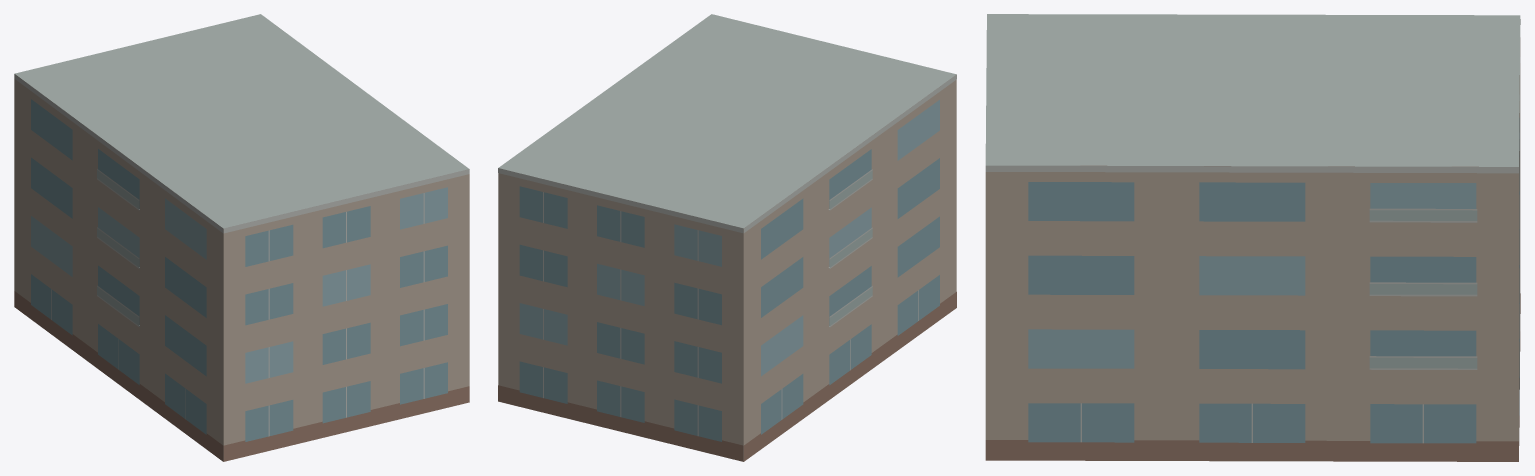
The model's file is survey-upis-32549980.glb.
The picture shows the model from 3 angles, left to right: view 1: azimuth 30°, elevation 25°; view 2: azimuth 150°, elevation 25°; view 3: azimuth 270°, elevation 25°; orthographic projection. The views are drawn at different scales.
Parts seen in each view (by area): view 1: survey-upis-32549980.tmp; view 2: survey-upis-32549980.tmp; view 3: survey-upis-32549980.tmp.
Part boxes in pixels (x1,y1,x2,y2): survey-upis-32549980.tmp: [14, 14, 469, 461]; survey-upis-32549980.tmp: [498, 14, 956, 461]; survey-upis-32549980.tmp: [985, 14, 1520, 461].
Size of the model in its own units: 12.59 by 11.3 by 18.58.
